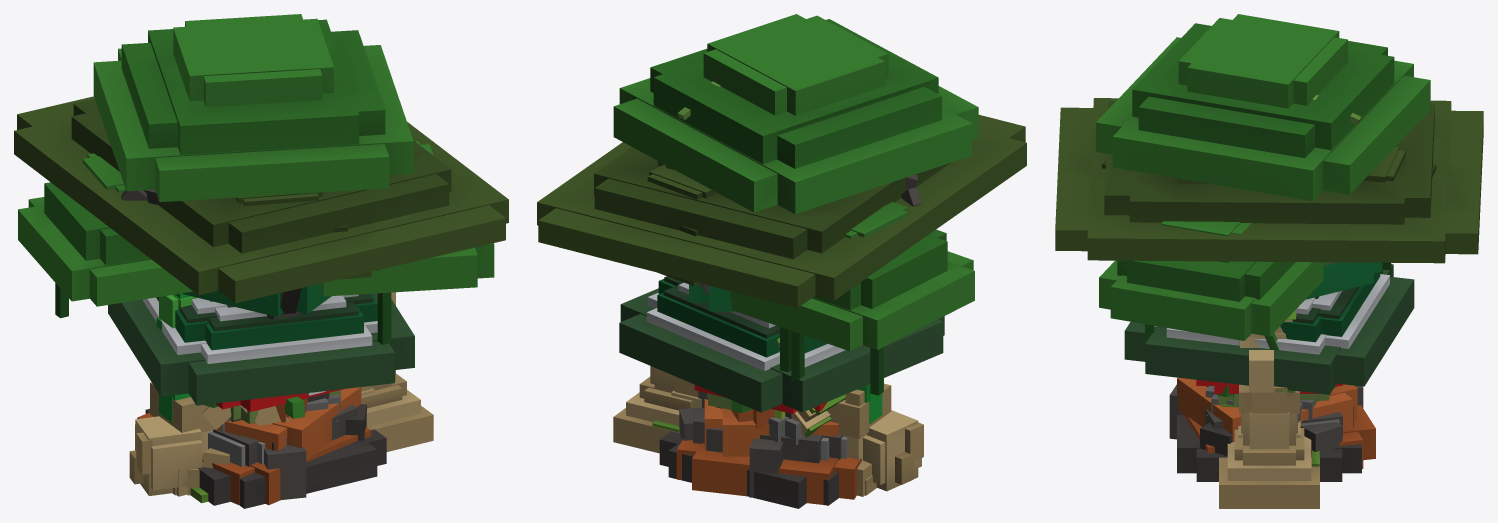
File: ZoneDecorFixed.fbx
The picture shows the model from 3 angles, left to right: view 1: azimuth 30°, elevation 25°; view 2: azimuth 150°, elevation 25°; view 3: azimuth 270°, elevation 25°; orthographic projection. The views are drawn at different scales.
Parts seen in each view (by area): view 1: JungleTree, Acacia, Pine, SnowPine, Vent, FallenColumn, TermiteMound, Archway, MossyStone, Cactus, CharredTree, StatueHead (+2 smaller); view 2: JungleTree, Acacia, Pine, FallenColumn, TermiteMound, Vent, SnowPine, Archway, MossyStone, StatueHead; view 3: JungleTree, Acacia, Pine, FallenColumn, SnowPine, Vent, TermiteMound, MossyStone, Archway.
Boxes of the visible parts, x1=… form: JungleTree: x1=18, y1=14, x2=494, y2=346; Acacia: x1=14, y1=96, x2=508, y2=303; Pine: x1=108, y1=293, x2=414, y2=405; SnowPine: x1=142, y1=283, x2=377, y2=363; Vent: x1=145, y1=393, x2=386, y2=508; FallenColumn: x1=129, y1=292, x2=433, y2=503; TermiteMound: x1=137, y1=387, x2=371, y2=505; Archway: x1=150, y1=382, x2=374, y2=496; MossyStone: x1=208, y1=390, x2=340, y2=466; Cactus: x1=156, y1=293, x2=197, y2=422; CharredTree: x1=121, y1=189, x2=301, y2=319; StatueHead: x1=201, y1=405, x2=337, y2=429; JungleTree: x1=613, y1=14, x2=978, y2=395; Acacia: x1=537, y1=114, x2=1026, y2=307; Pine: x1=619, y1=276, x2=944, y2=412; FallenColumn: x1=613, y1=366, x2=923, y2=491; TermiteMound: x1=676, y1=399, x2=861, y2=504; Vent: x1=659, y1=407, x2=842, y2=508; SnowPine: x1=646, y1=279, x2=845, y2=370; Archway: x1=671, y1=376, x2=891, y2=496; MossyStone: x1=698, y1=391, x2=847, y2=460; StatueHead: x1=791, y1=394, x2=845, y2=436; JungleTree: x1=1096, y1=14, x2=1430, y2=356; Acacia: x1=1055, y1=98, x2=1483, y2=263; Pine: x1=1124, y1=262, x2=1414, y2=394; FallenColumn: x1=1219, y1=350, x2=1319, y2=508; SnowPine: x1=1154, y1=262, x2=1389, y2=354; Vent: x1=1169, y1=384, x2=1363, y2=481; TermiteMound: x1=1177, y1=377, x2=1375, y2=468; MossyStone: x1=1205, y1=386, x2=1339, y2=425; Archway: x1=1238, y1=309, x2=1300, y2=437.
Bounding box in the file's own units: 15.88 × 16.73 × 16.08.
